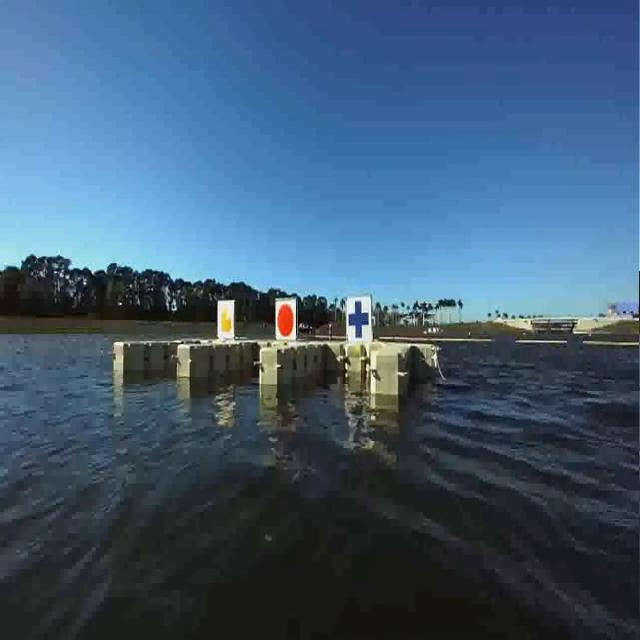blue-cross: (345, 298, 375, 343)
red-dot: (273, 296, 300, 342)
yellow-duck: (217, 294, 236, 343)
